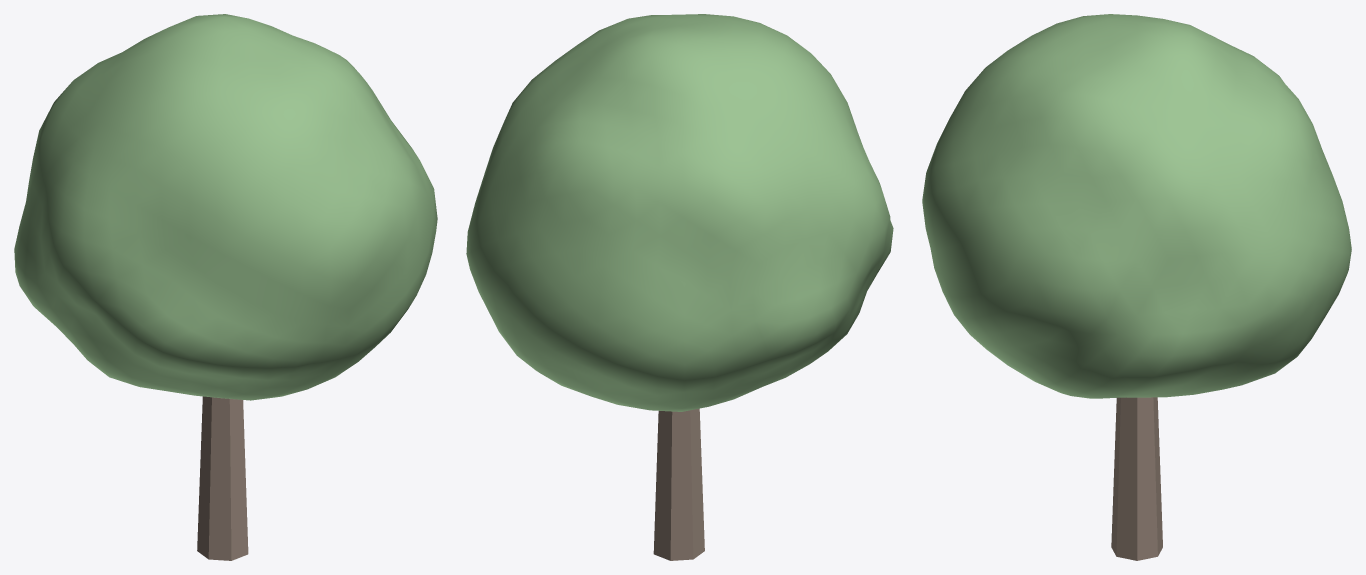
File: tree-broadleaf-b.glb
3 renders of one model, left to right at view 1: azimuth 30°, elevation 25°; view 2: azimuth 150°, elevation 25°; view 3: azimuth 270°, elevation 25°, orthographic.
Parts seen in each view (by area): view 1: tree-broadleaf-b; view 2: tree-broadleaf-b; view 3: tree-broadleaf-b.
Boxes of the visible parts, <box> form: tree-broadleaf-b: <box>14,14,437,560</box>; tree-broadleaf-b: <box>466,14,893,560</box>; tree-broadleaf-b: <box>922,14,1351,560</box>.
Bounding box in the file's own units: 0.7339 × 1 × 0.751.
